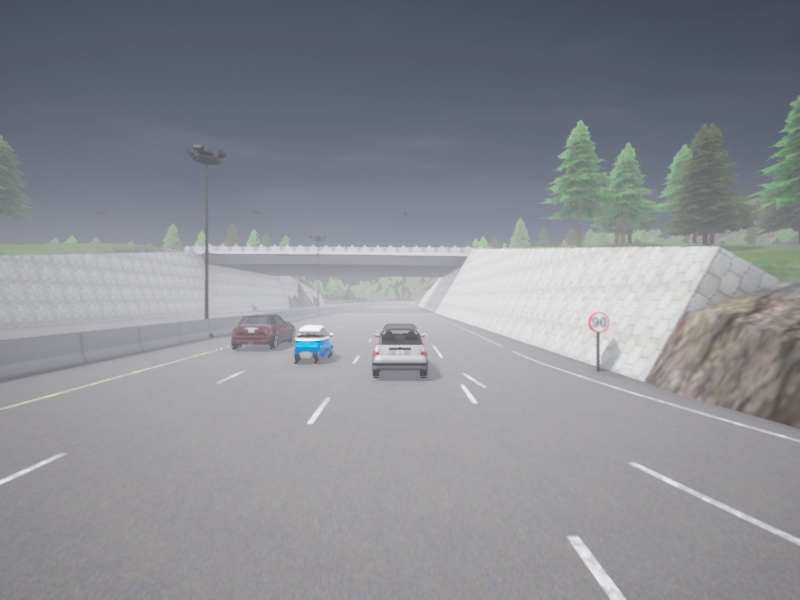vehicle: (372, 323, 427, 377), (231, 314, 294, 348), (294, 325, 332, 362)
